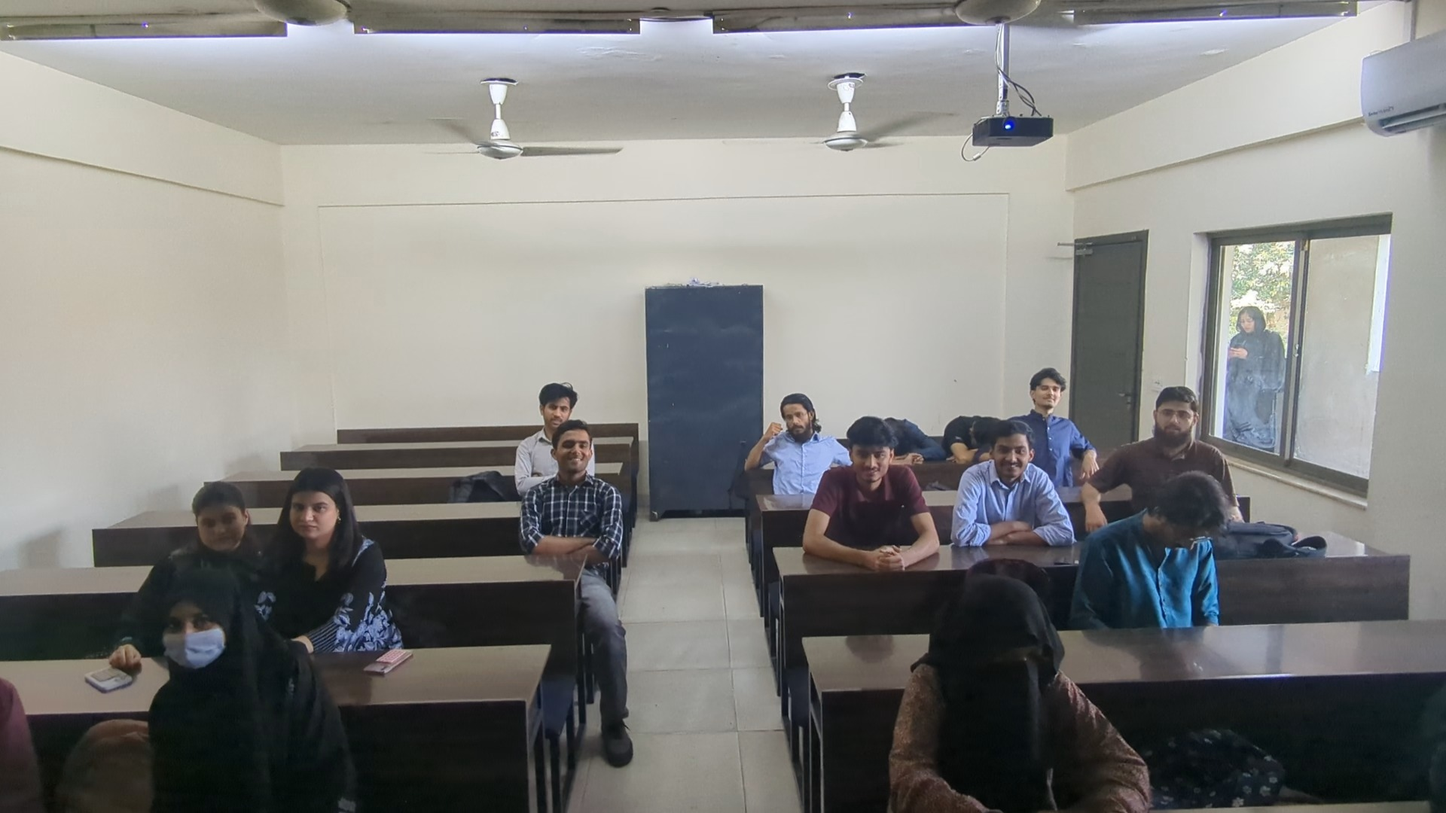look_forward: (139, 581, 277, 732), (545, 425, 636, 579), (282, 459, 371, 604), (734, 381, 811, 499), (827, 413, 892, 544), (173, 470, 252, 565), (1160, 369, 1224, 462), (986, 429, 1051, 520), (1010, 368, 1077, 445), (511, 365, 584, 428)
read: (960, 587, 1078, 783)
sleep: (884, 390, 934, 468), (937, 395, 1003, 452)
using_device: (1135, 460, 1221, 644)
